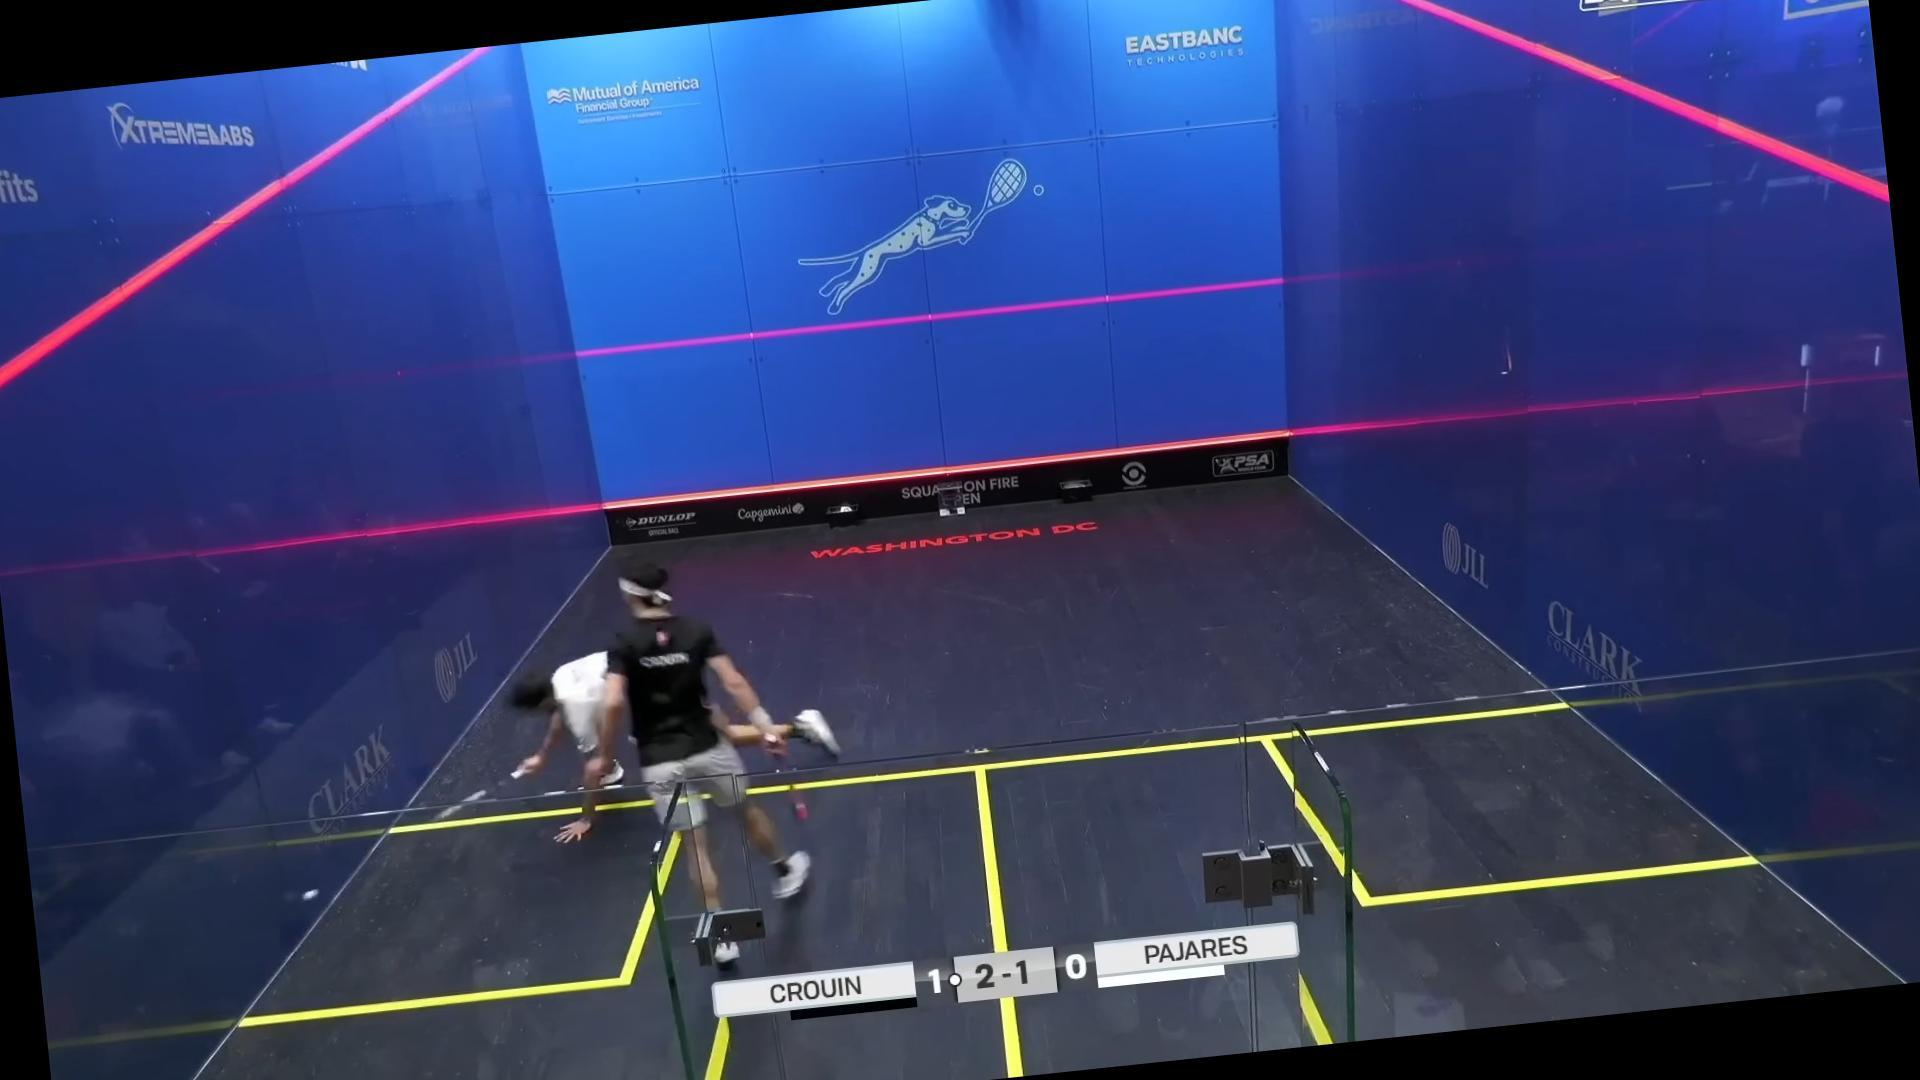Squash-Ball: (290, 874, 331, 915)
